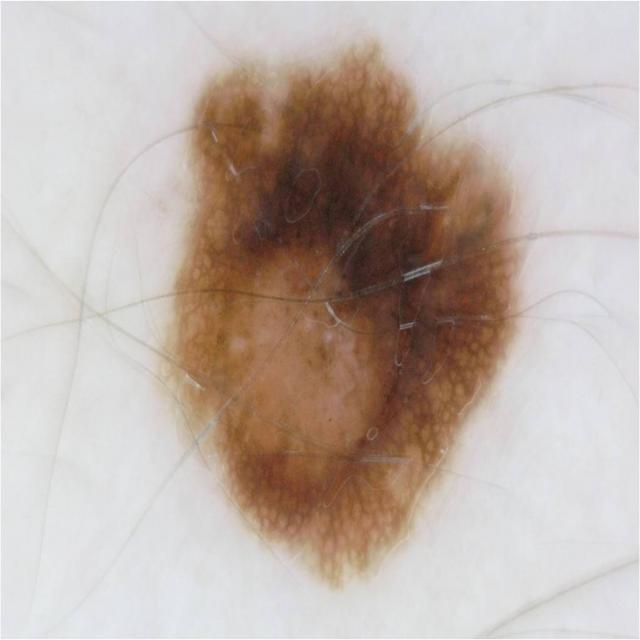Benign: (158, 30, 530, 616)
